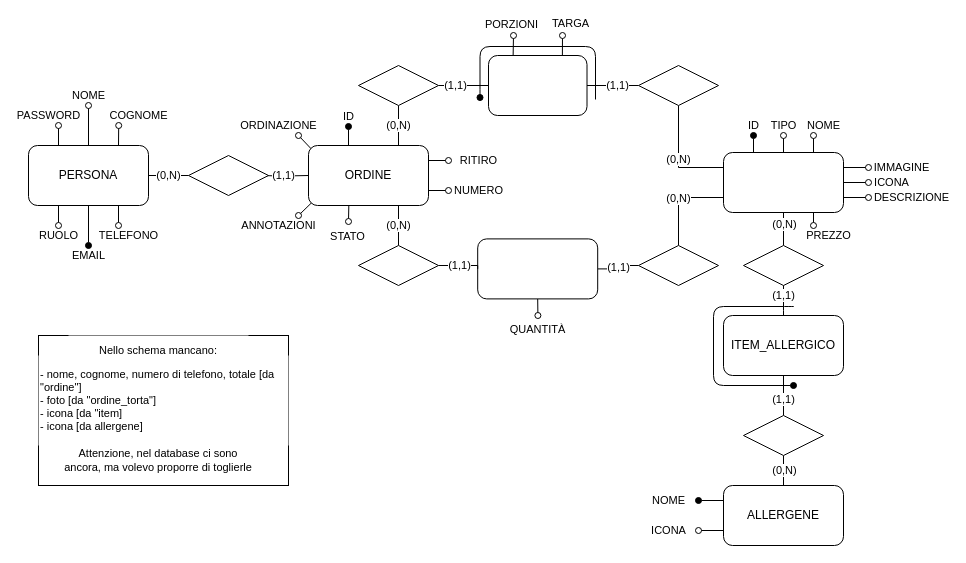
Some shapes in this 966 by 563 pixel diagram are drawn without their labels. The shapes that lost their labels are listed below. From the top down, each one's centre as x and y in pixels, then its label:
At point (537, 85): "ORDINE_ TORTA".
At point (783, 182): "ITEM".
At point (537, 268): "ORDINE_ PASTICCINO".
